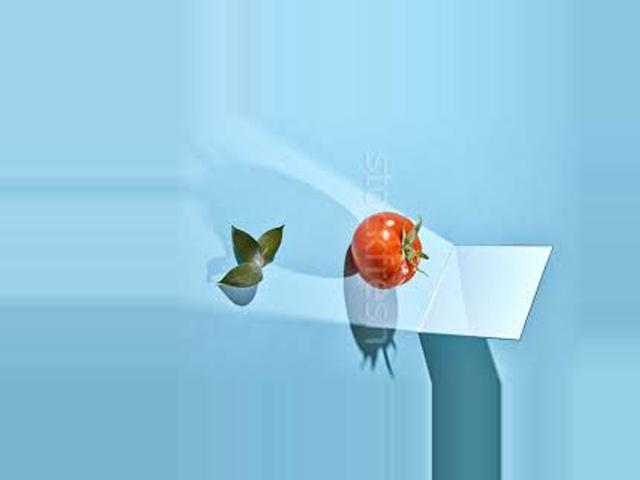tomato: (350, 210, 422, 289)
